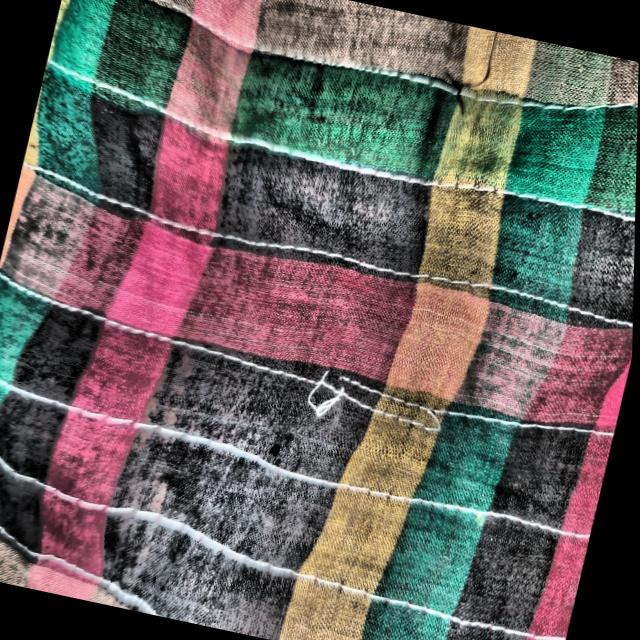Stitch: (275, 328, 490, 463)
